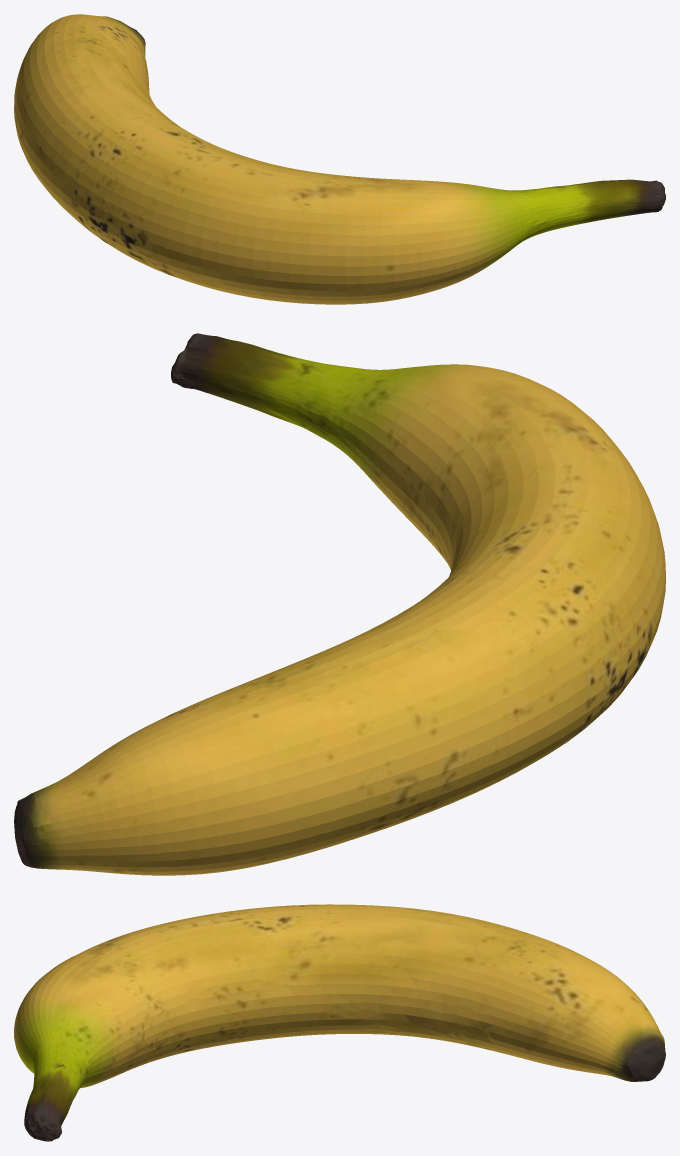
The picture shows the model from 3 angles, top to bottom: view 1: azimuth 30°, elevation 25°; view 2: azimuth 150°, elevation 25°; view 3: azimuth 270°, elevation 25°; orthographic projection. The views are drawn at different scales.
Visible parts, largest first — view 1: part_00; view 2: part_00; view 3: part_00.
Boxes of the visible parts, bbox=[...] form: part_00: bbox=[14, 14, 665, 304]; part_00: bbox=[14, 333, 665, 875]; part_00: bbox=[14, 904, 665, 1141].
Bounding box in the file's own units: 0.116 × 0.0316 × 0.1622.
Materials: 1 (1 with a texture image).
